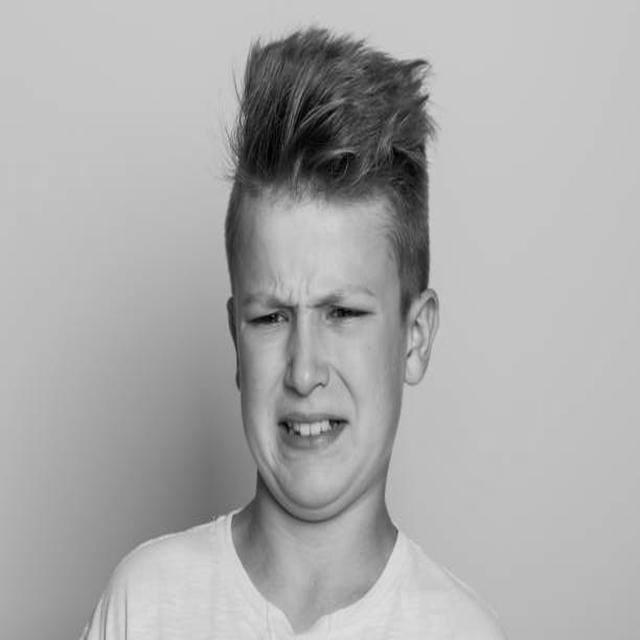Disgust: (224, 197, 402, 522)
